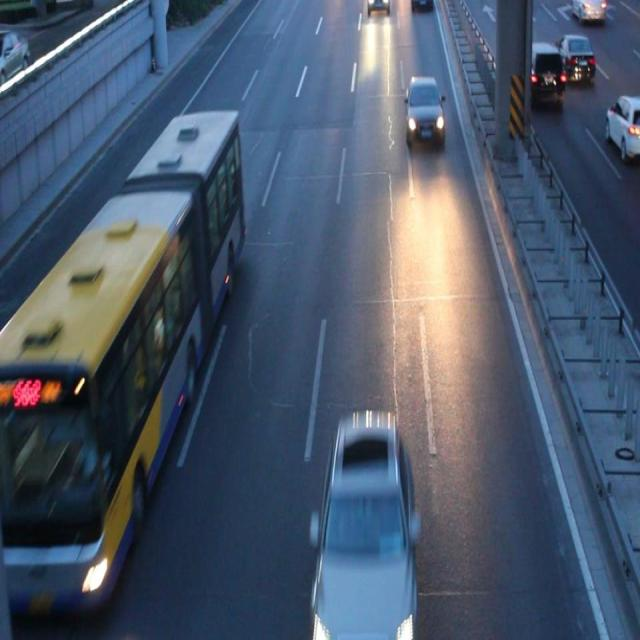car: (314, 405, 414, 640), (510, 45, 562, 100), (404, 76, 443, 141), (604, 95, 640, 159), (550, 36, 592, 80), (570, 1, 606, 22), (366, 1, 390, 18), (411, 1, 431, 13)
van: (1, 115, 242, 608)
